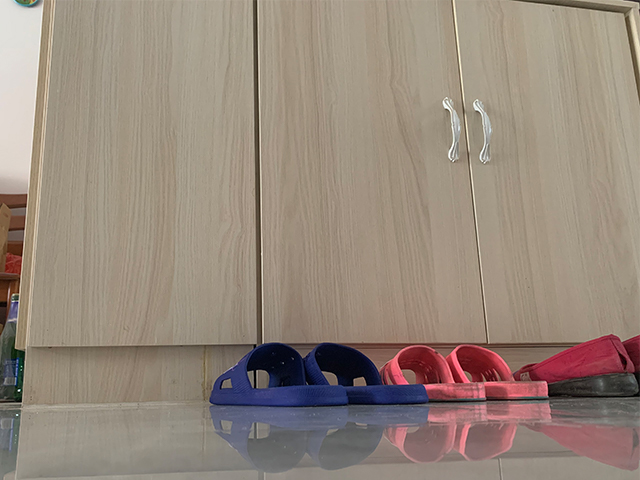cabinet: (13, 1, 640, 404)
slippers: (209, 343, 346, 407), (305, 343, 427, 405), (379, 346, 483, 402), (446, 348, 550, 404)
